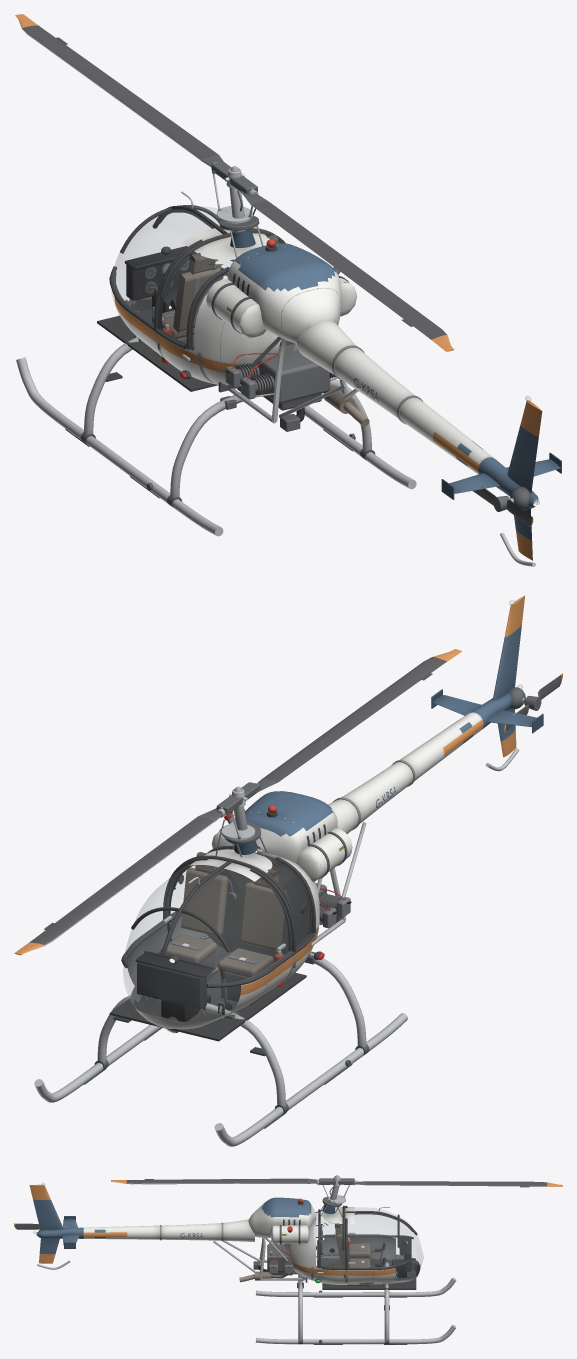
File: kestrel_k2.glb
The picture shows the model from 3 angles, top to bottom: view 1: azimuth 30°, elevation 25°; view 2: azimuth 150°, elevation 25°; view 3: azimuth 270°, elevation 25°; orthographic projection. The views are drawn at different scales.
Visible parts, largest first — view 1: Tail boom (game), Upper cowling (game), Canopy glass (game), Cabin shell (game), Main rotor blade.001 (game), Main rotor blade (game), Canopy glass (door).001 (game), Crankcase (game), Skid (game), Upper fin (game), Crosstube.001 (game), Floor (game) (+9 smaller); view 2: Canopy glass (game), Tail boom (game), Upper cowling (game), Main rotor blade.001 (game), Cabin shell (game), Main rotor blade (game), Floor (game), Instrument console (game), Seat back (game), Seat back.001 (game), Skid (game), Upper fin (game) (+15 smaller); view 3: Canopy glass (game), Tail boom (game), Cabin shell (game), Upper cowling (game), Cabin lining (game), Main rotor blade (game), Main rotor blade.001 (game), Canopy glass (door) (game), Skid.001 (game), Upper fin (game), Skid (game), Floor (game) (+10 smaller).
Part boxes in pixels (x1=…): Tail boom (game): x1=296, y1=321, x2=538, y2=508; Upper cowling (game): x1=227, y1=243, x2=341, y2=343; Canopy glass (game): x1=111, y1=207, x2=260, y2=324; Cabin shell (game): x1=114, y1=227, x2=298, y2=386; Main rotor blade.001 (game): x1=15, y1=14, x2=223, y2=166; Main rotor blade (game): x1=240, y1=191, x2=454, y2=351; Canopy glass (door).001 (game): x1=158, y1=252, x2=225, y2=349; Crankcase (game): x1=257, y1=343, x2=329, y2=403; Skid (game): x1=16, y1=357, x2=223, y2=536; Upper fin (game): x1=507, y1=400, x2=542, y2=493; Crosstube.001 (game): x1=170, y1=378, x2=371, y2=500; Floor (game): x1=97, y1=308, x2=218, y2=391; Canopy glass (game): x1=123, y1=852, x2=291, y2=1021; Tail boom (game): x1=328, y1=692, x2=512, y2=834; Upper cowling (game): x1=232, y1=791, x2=337, y2=862; Main rotor blade.001 (game): x1=14, y1=808, x2=222, y2=955; Cabin shell (game): x1=135, y1=848, x2=319, y2=1029; Main rotor blade (game): x1=256, y1=649, x2=461, y2=792; Floor (game): x1=109, y1=955, x2=306, y2=1041; Instrument console (game): x1=137, y1=962, x2=206, y2=1009; Seat back (game): x1=239, y1=882, x2=284, y2=950; Seat back.001 (game): x1=181, y1=867, x2=228, y2=936; Skid (game): x1=214, y1=1013, x2=407, y2=1146; Upper fin (game): x1=492, y1=595, x2=525, y2=700; Canopy glass (game): x1=316, y1=1207, x2=423, y2=1279; Tail boom (game): x1=36, y1=1219, x2=254, y2=1241; Cabin shell (game): x1=284, y1=1207, x2=418, y2=1284; Upper cowling (game): x1=248, y1=1197, x2=316, y2=1237; Cabin lining (game): x1=317, y1=1236, x2=420, y2=1275; Main rotor blade (game): x1=111, y1=1178, x2=318, y2=1184; Main rotor blade.001 (game): x1=350, y1=1181, x2=562, y2=1186; Canopy glass (door) (game): x1=316, y1=1223, x2=344, y2=1267; Skid.001 (game): x1=255, y1=1324, x2=456, y2=1344; Upper fin (game): x1=29, y1=1184, x2=63, y2=1230; Skid (game): x1=256, y1=1277, x2=456, y2=1296; Floor (game): x1=322, y1=1260, x2=416, y2=1289.
Size of the model in its own units: 2.02 by 2.73 by 9.35.
